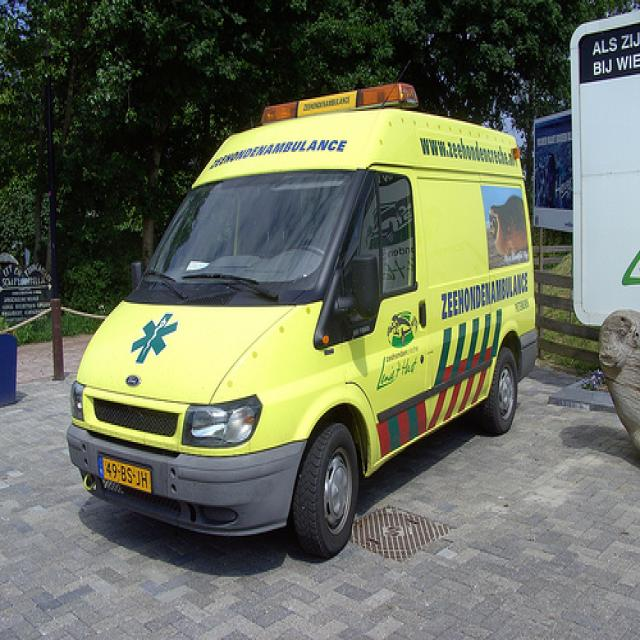emergency-vehicle: (72, 100, 531, 562)
